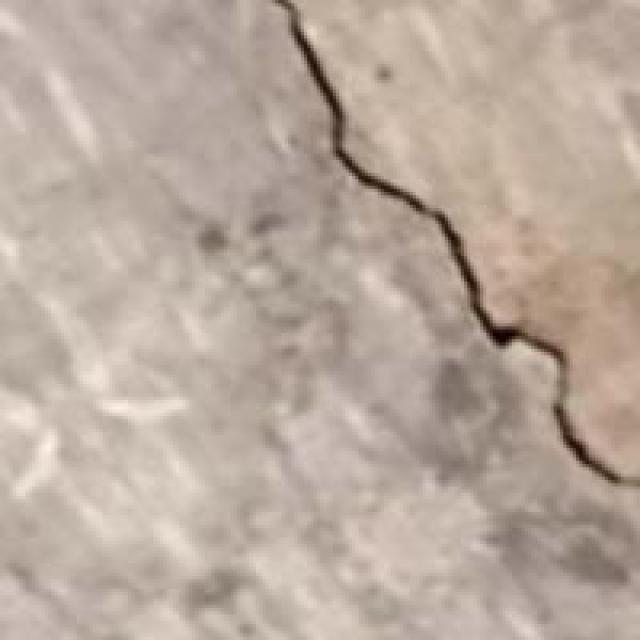Crack: (269, 0, 637, 490)
